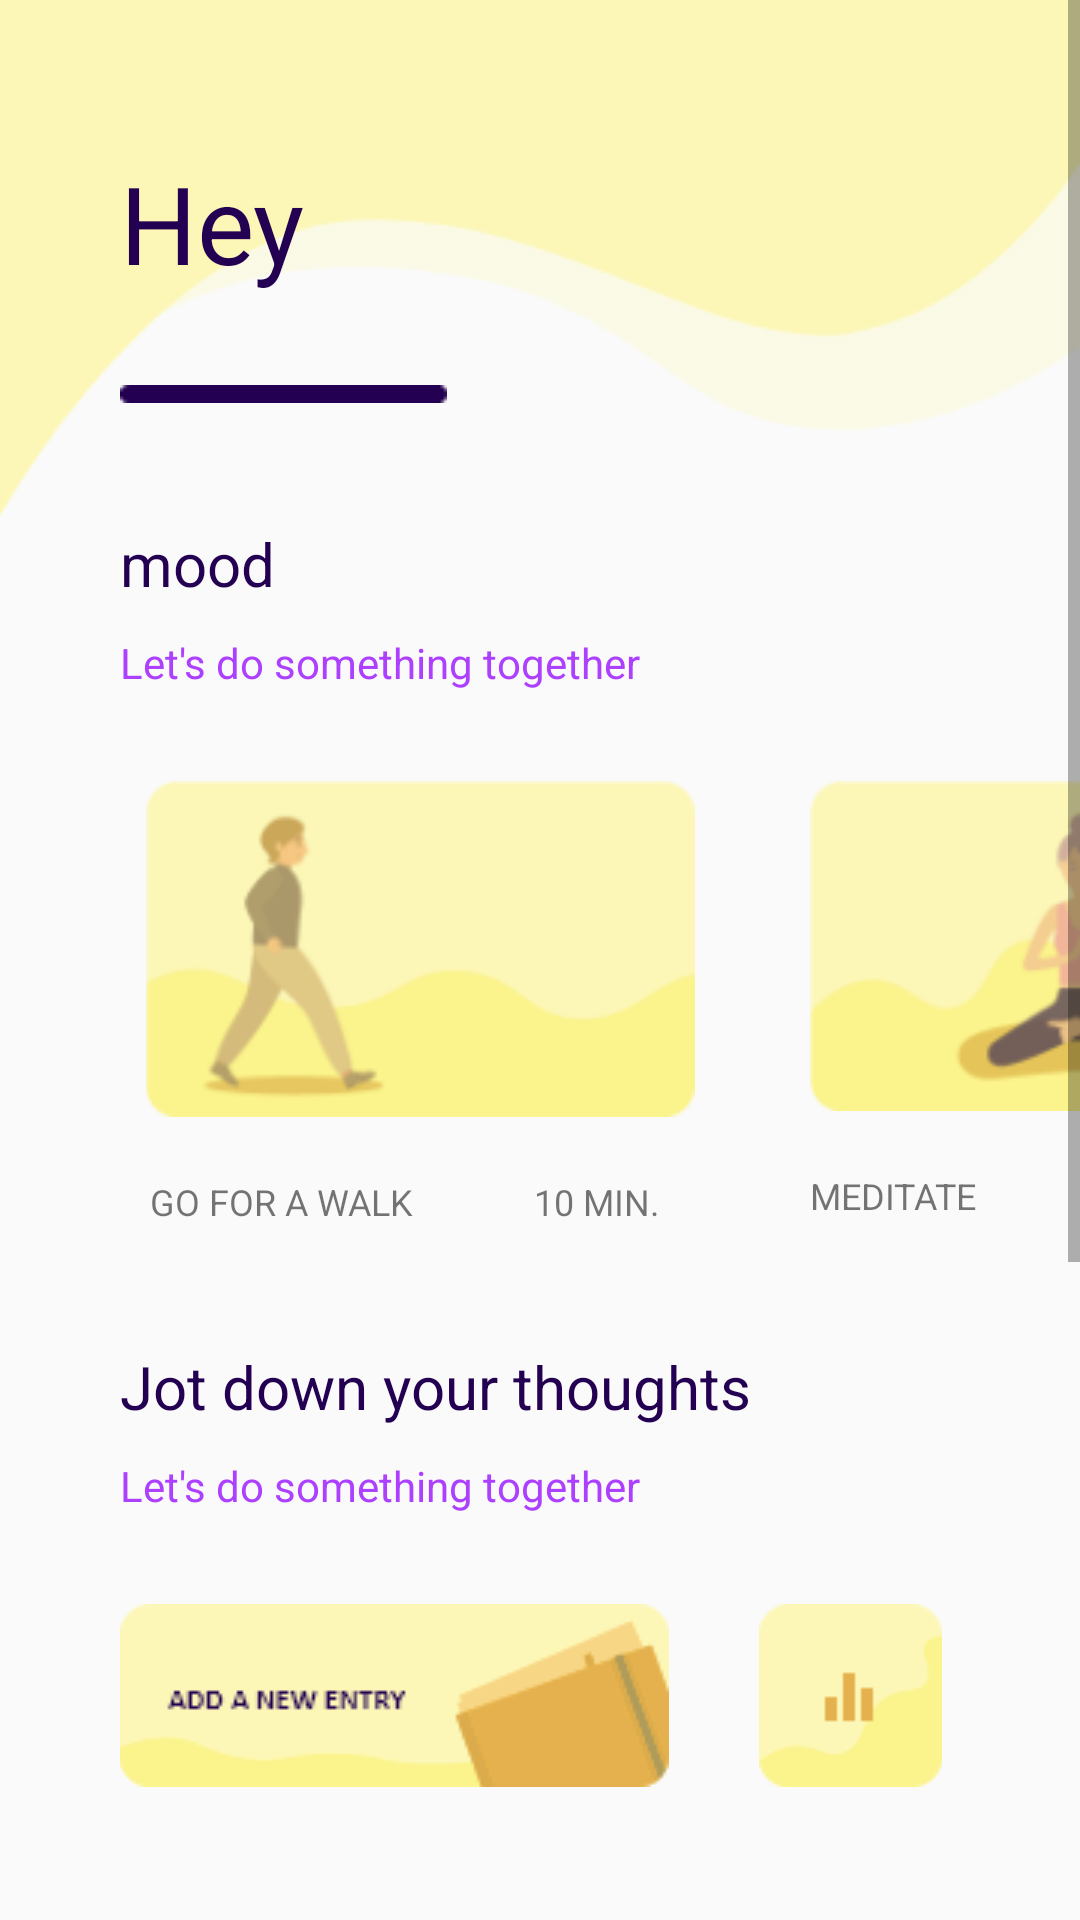

Icon click points for this 1080×1920 phone screenshot, format (x,y):
stats: (850,1695)
